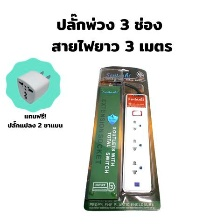book: (81, 62, 162, 213)
three_eye_plug: (119, 90, 156, 197), (11, 68, 54, 105)
